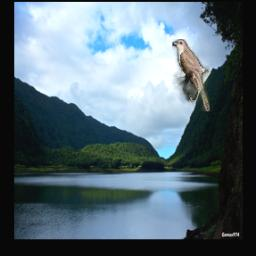Cuckoo: (172, 39, 210, 111)
